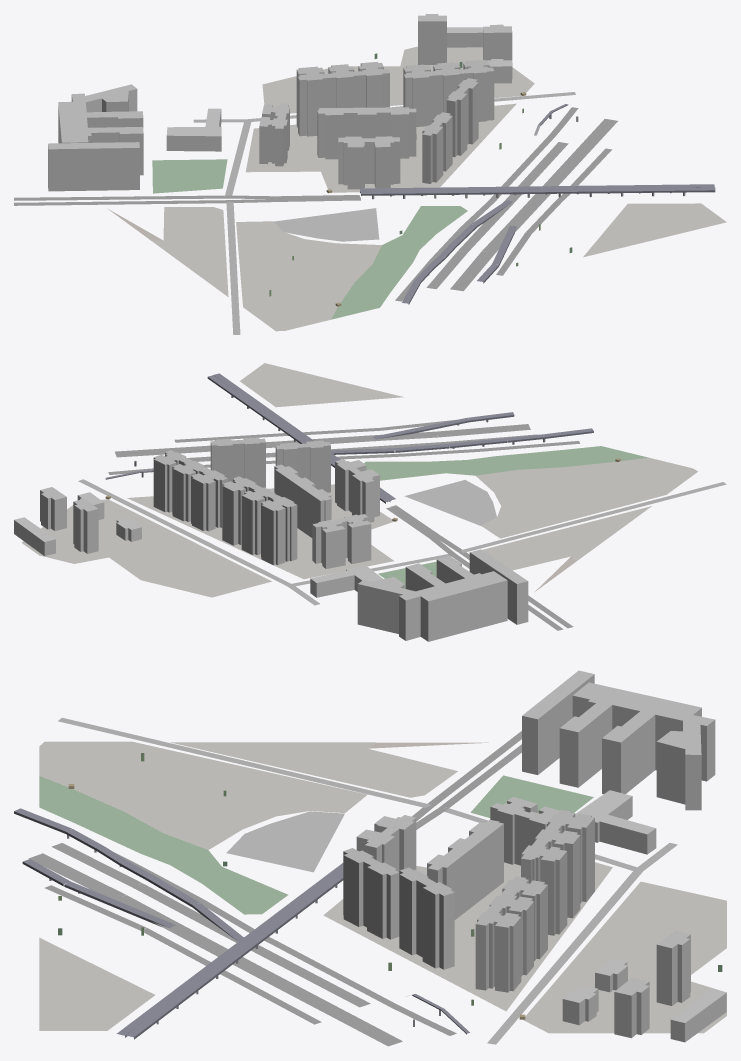
3 views of the same model, one above another, from view 1: azimuth 30°, elevation 25°; view 2: azimuth 150°, elevation 25°; view 3: azimuth 270°, elevation 25° (orthographic). The views are drawn at different scales.
Size of the model in its own units: 600 by 61.12 by 519.
